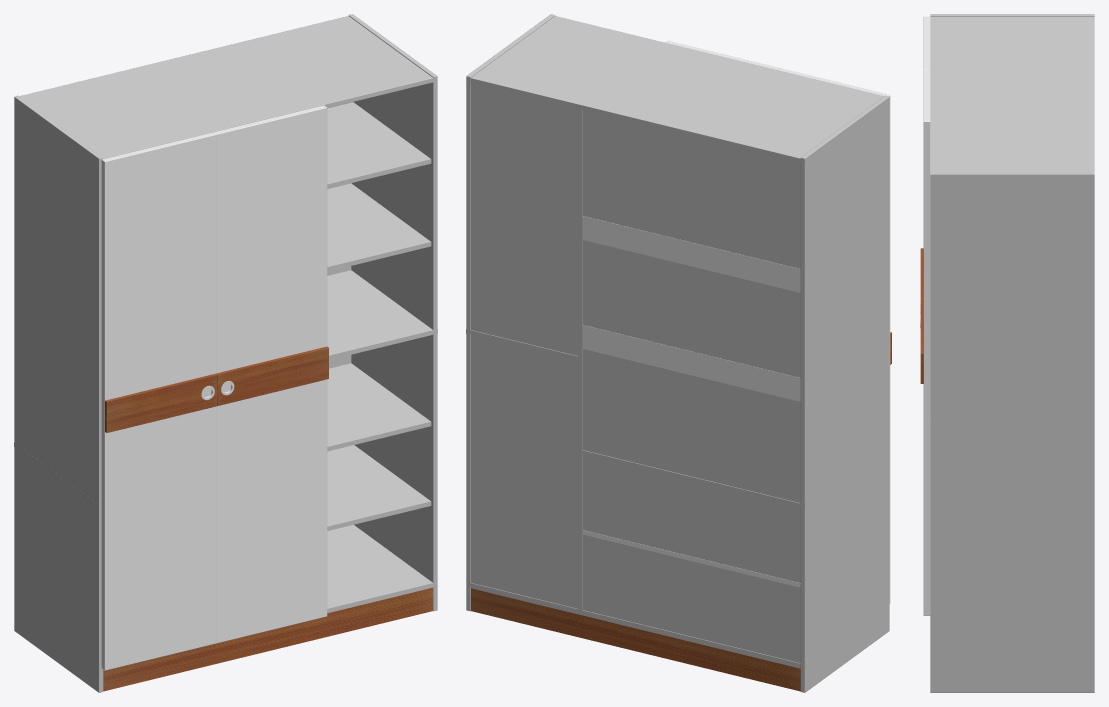
File: Cupb6.gltf
The picture shows the model from 3 angles, left to right: view 1: azimuth 30°, elevation 25°; view 2: azimuth 150°, elevation 25°; view 3: azimuth 270°, elevation 25°; orthographic projection. The views are drawn at different scales.
Bounding box in the file's own units: 119 × 179 × 54.64.
Materials: 5 (2 with a texture image).
